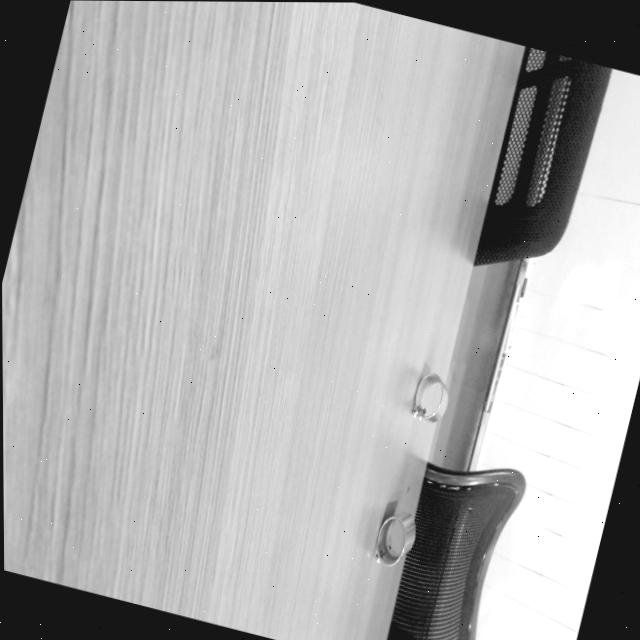Co_Lon: (373, 509, 418, 568)
Co_Nho: (409, 369, 453, 424)
